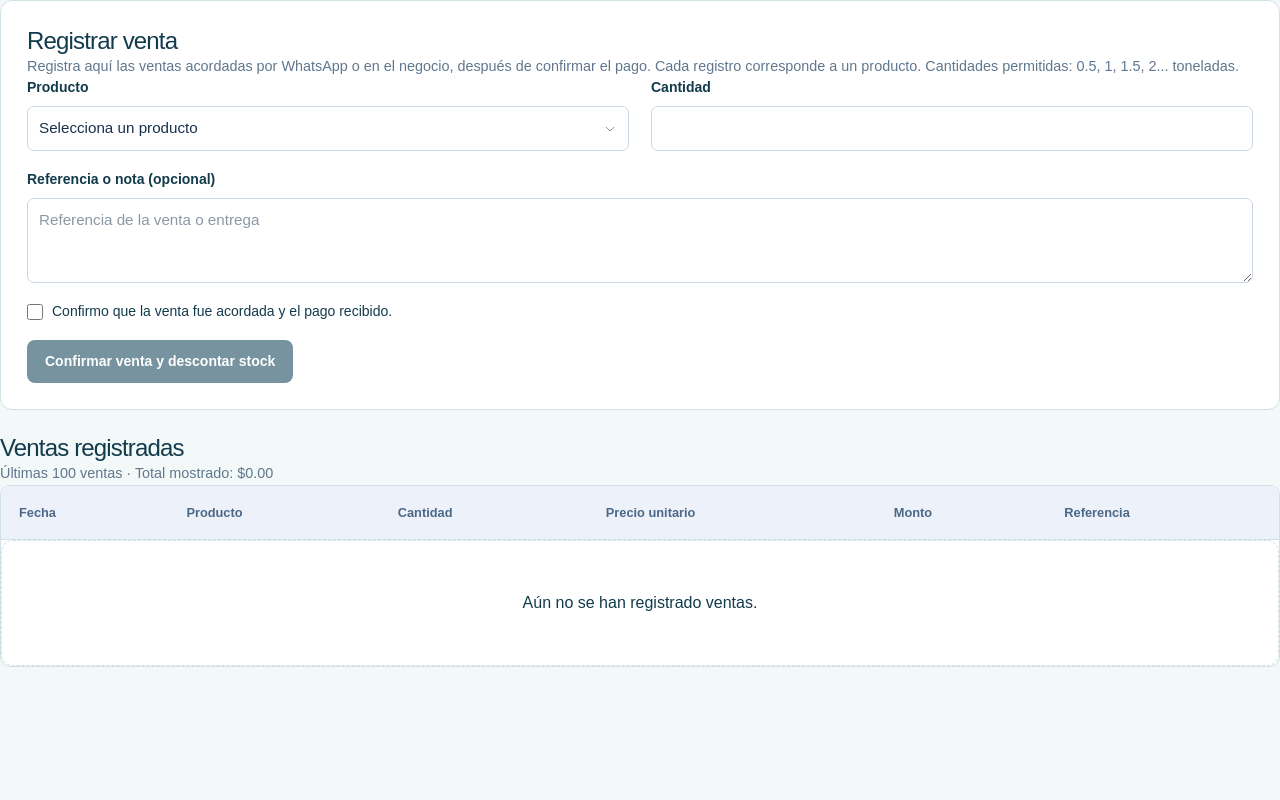
Test case: requiere confirmar el pago, calcula monto y registra la venta
Expected: the button "Confirmar venta y descontar stock" is disabled, 27,340 -> 293,383
Select "Filete" in the dropdown labelled "Producto" at x=328, y=129, box 27,106 -> 629,151
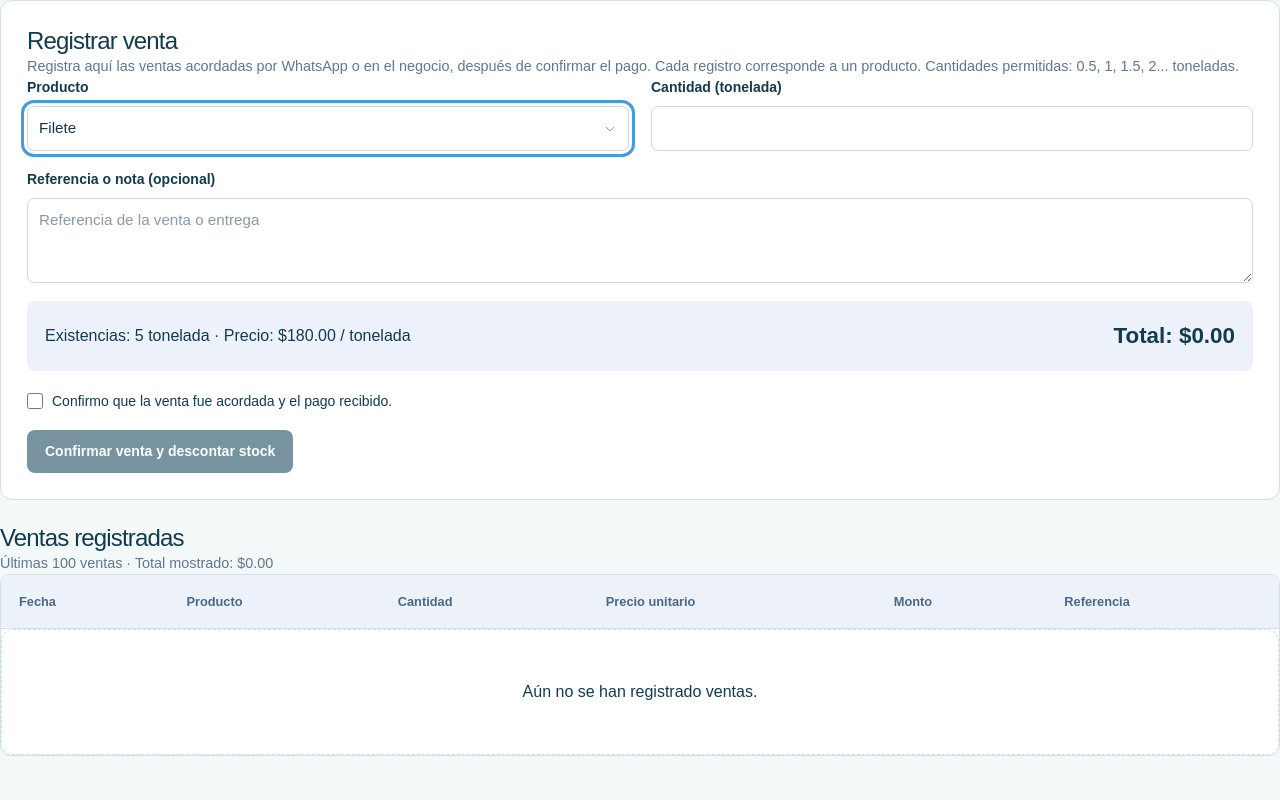
Type "2.5" into the number field labelled "Cantidad (tonelada)" at x=952, y=129, box 651,106 -> 1253,151
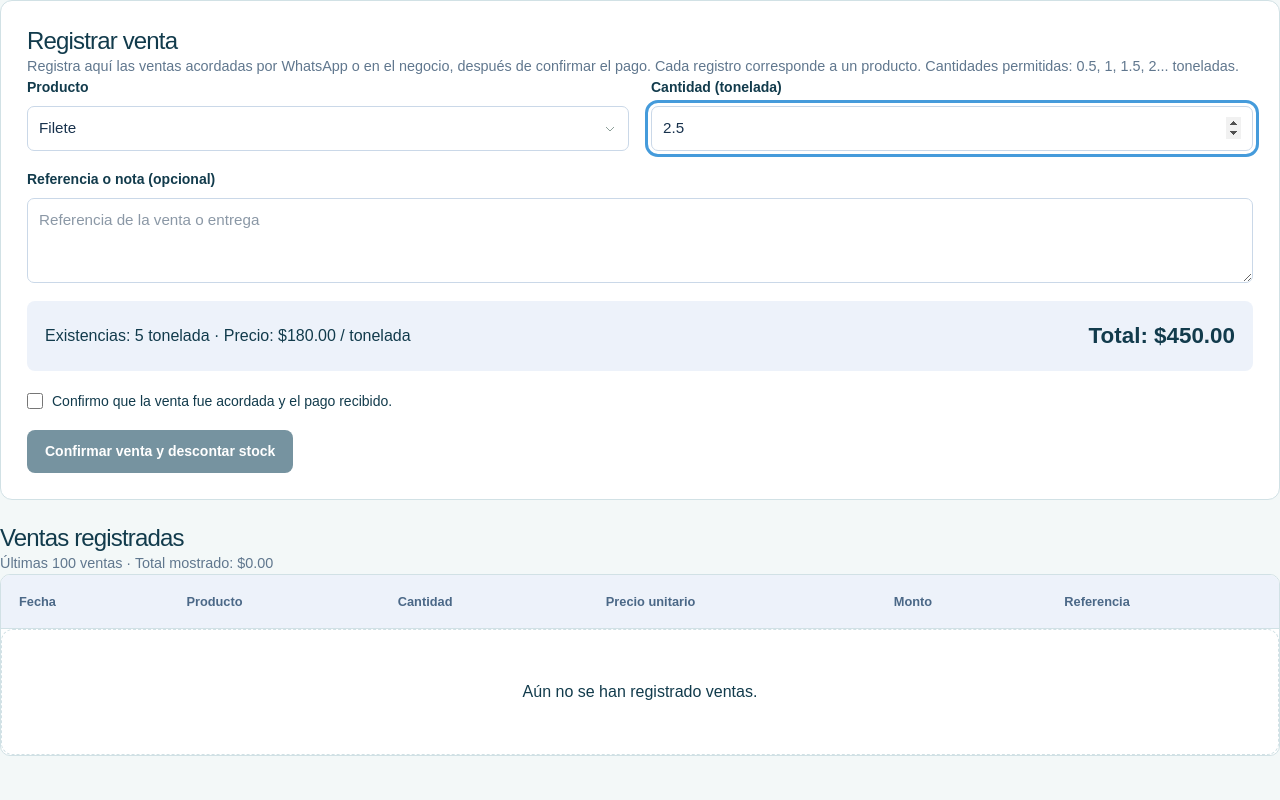
Result: the text "Total: $450.00" is shown at 1089,319 -> 1235,353
Click the checkbox at x=35, y=401, box 27,393 -> 43,409
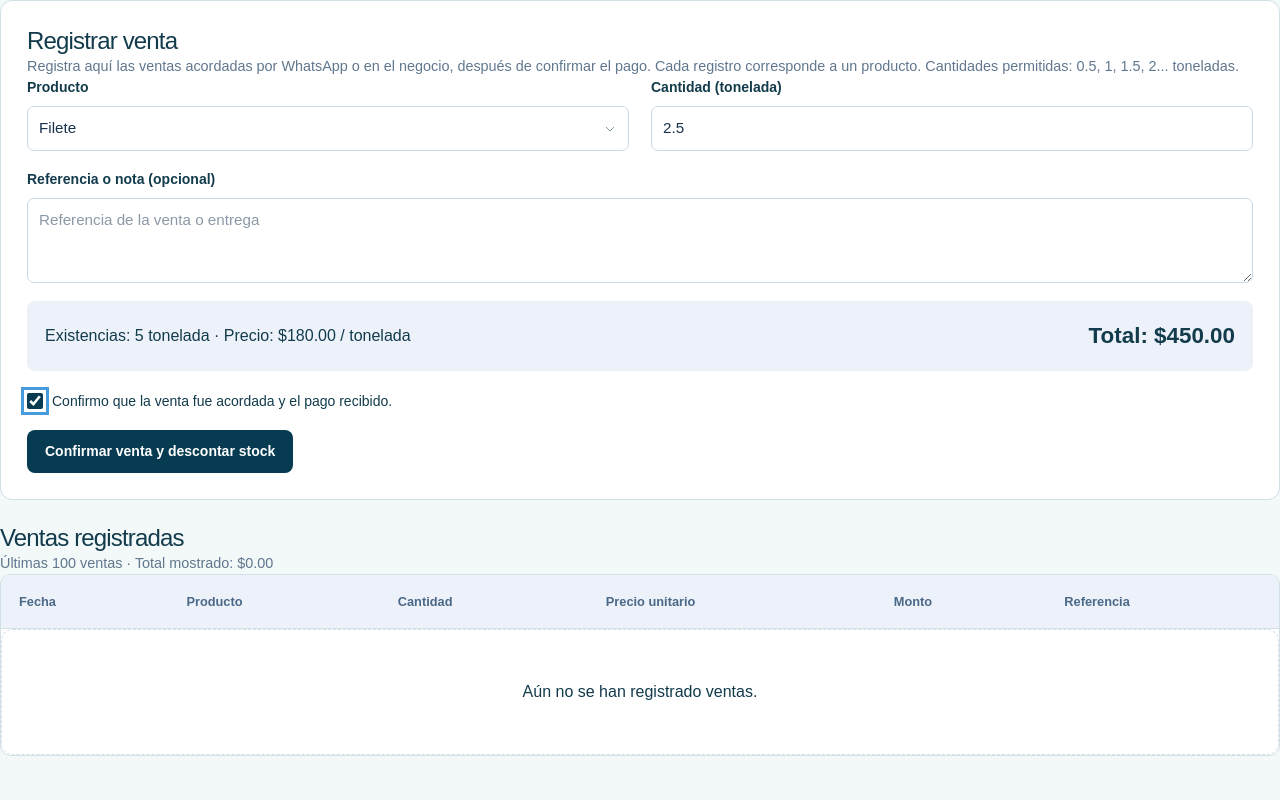
Click the button "Confirmar venta y descontar stock" at x=160, y=451, box 27,430 -> 293,473
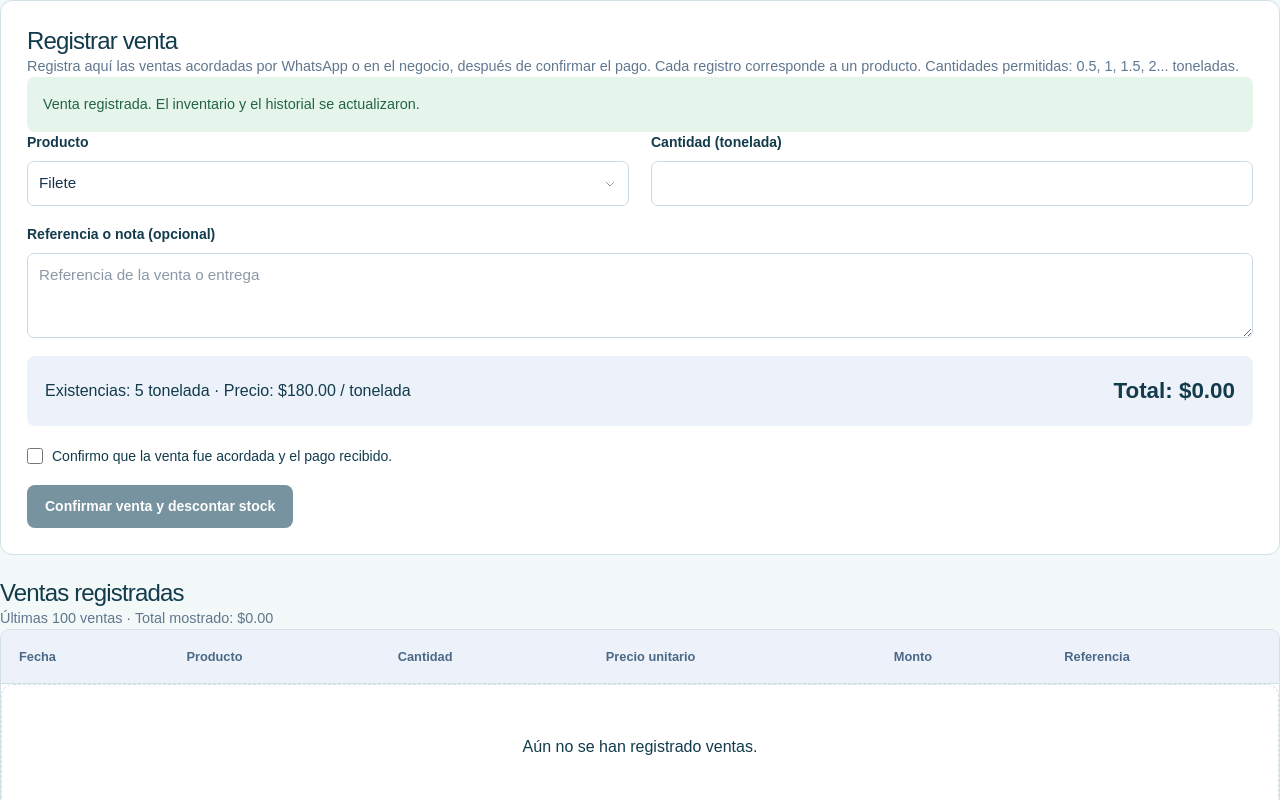
Result: the message "Venta registrada. El inventario y el historial se actualizaron." is shown at 27,77 -> 1253,132
